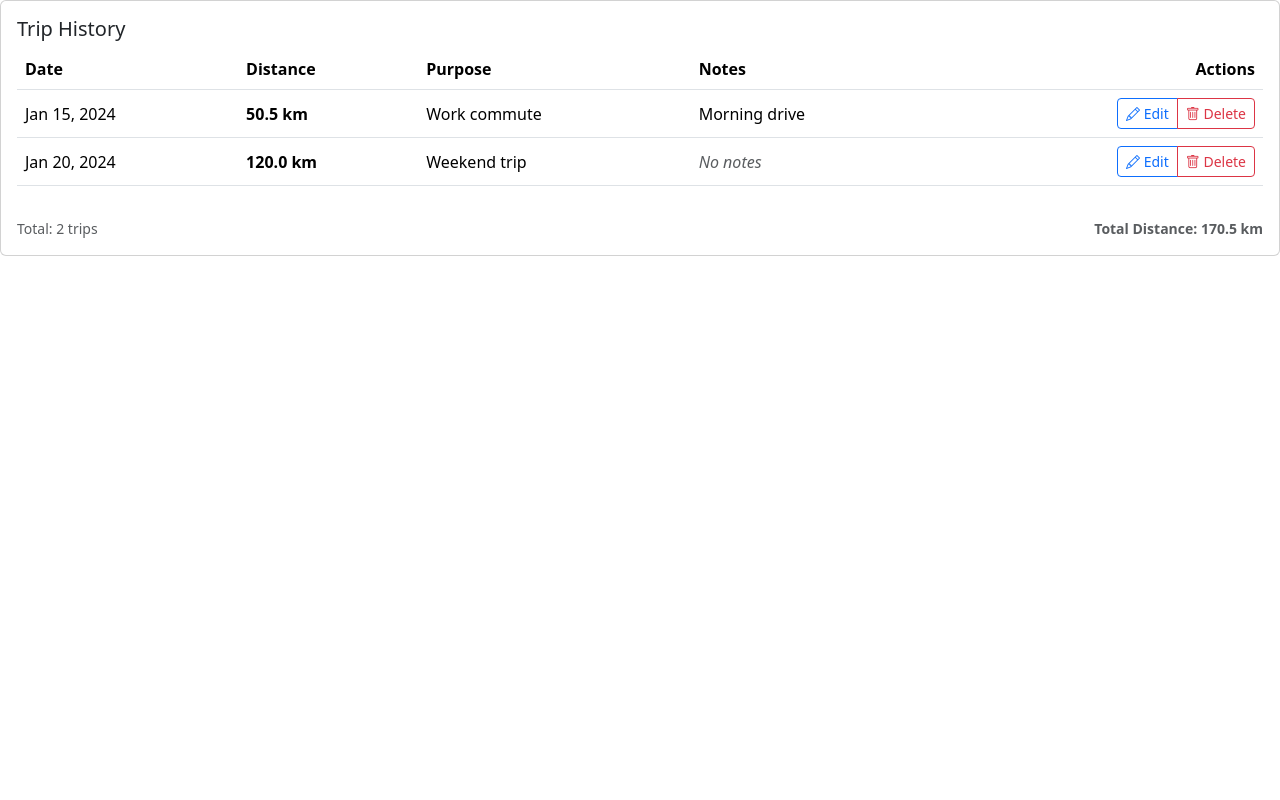
Test case: TripList Component › should handle edit action
The image size is (1280, 800).
Expected: the heading "Trip History" is shown, x1=17 y1=15 x2=125 y2=42
Note: Click edit button for first trip
Click the button titled "Edit trip" in the row of "Jan 15, 2024".
click(1147, 114)  # box x1=1117 y1=98 x2=1178 y2=129
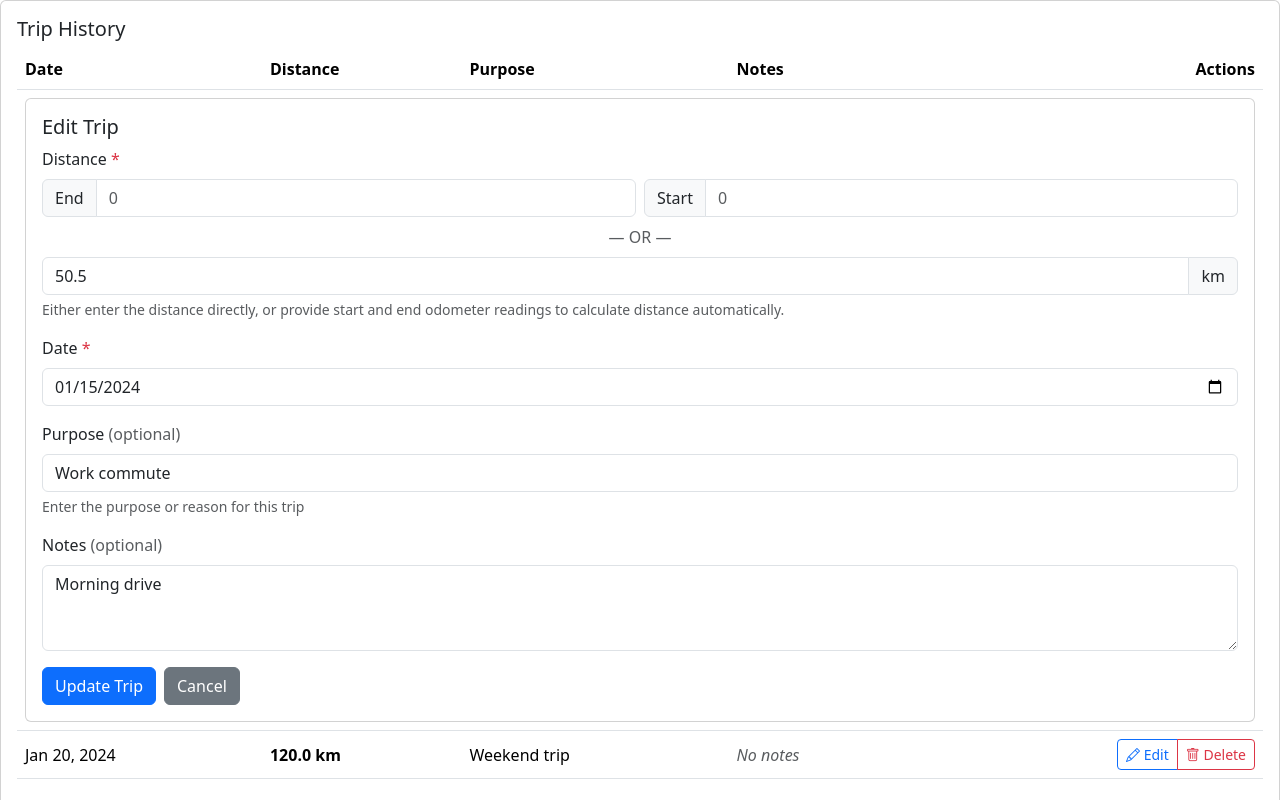
Now the heading "Edit Trip" is shown, box x1=42 y1=113 x2=119 y2=140
